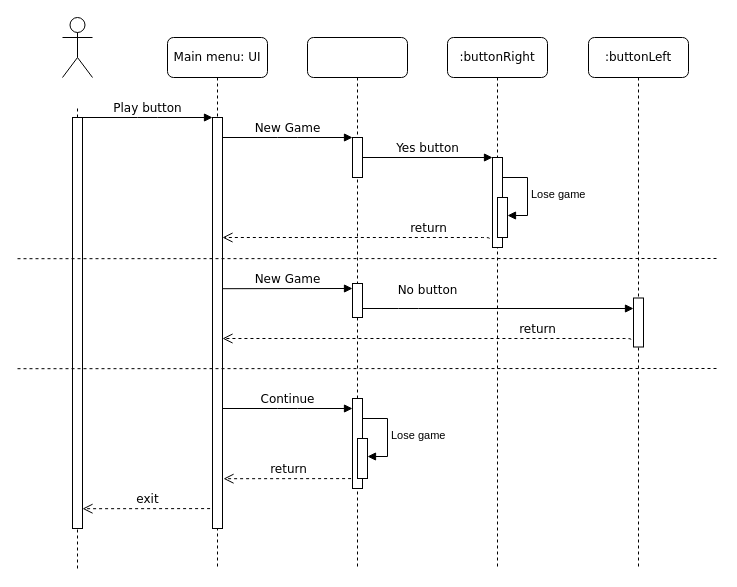
Image size: 737x587. Some labels were removed from this diagram. Each missing label, with the centre of its shape:
":buttonStart" goes at pixel 357 302.
"User" goes at pixel 77 47.
